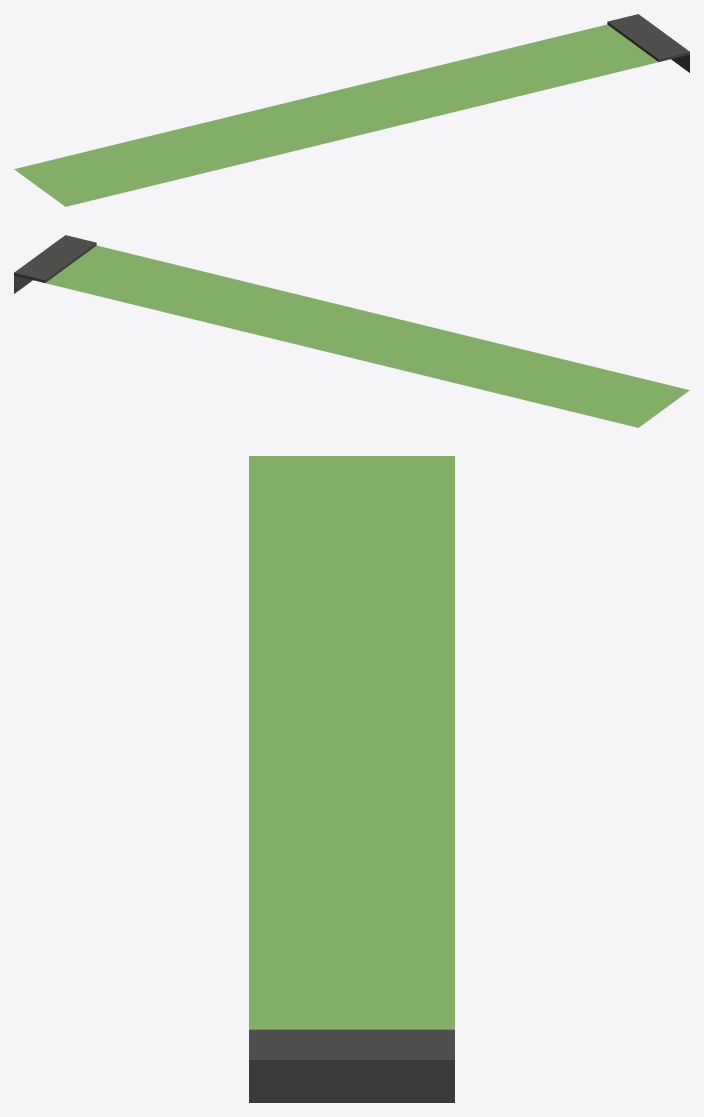
Rendered from M_Grass350x50_3.fbx.
3 renders of one model, top to bottom at view 1: azimuth 30°, elevation 25°; view 2: azimuth 150°, elevation 25°; view 3: azimuth 270°, elevation 25°, orthographic. The views are drawn at different scales.
Parts seen in each view (by area): view 1: M_Grass350x50_3; view 2: M_Grass350x50_3; view 3: M_Grass350x50_3.
Part boxes in pixels (x1,y1,x2,y2): M_Grass350x50_3: [14, 14, 689, 206]; M_Grass350x50_3: [14, 235, 689, 427]; M_Grass350x50_3: [249, 456, 454, 1102].
Bounding box in the file's own units: 350 × 50 × 11.5.
